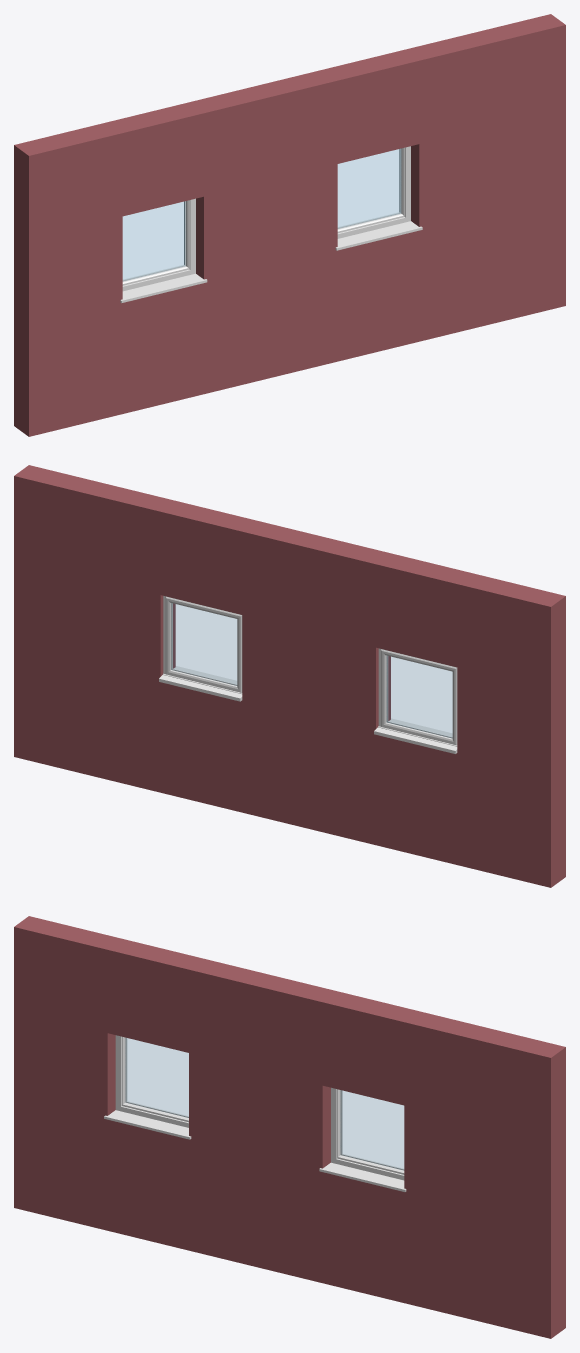
File: OneWallTwoWindows.dae
The picture shows the model from 3 angles, top to bottom: view 1: azimuth 30°, elevation 25°; view 2: azimuth 150°, elevation 25°; view 3: azimuth 330°, elevation 25°; orthographic projection.
Parts seen in each view (by area): view 1: product-f866f311-1fa6-42a7-8112-a4668819cc72-body, product-f866f311-1fa6-42a7-8112-a4668819cd74-body, product-f866f311-1fa6-42a7-8112-a4668819cd93-body; view 2: product-f866f311-1fa6-42a7-8112-a4668819cc72-body, product-f866f311-1fa6-42a7-8112-a4668819cd93-body, product-f866f311-1fa6-42a7-8112-a4668819cd74-body; view 3: product-f866f311-1fa6-42a7-8112-a4668819cc72-body, product-f866f311-1fa6-42a7-8112-a4668819cd93-body, product-f866f311-1fa6-42a7-8112-a4668819cd74-body.
Part boxes in pixels (<box>): product-f866f311-1fa6-42a7-8112-a4668819cc72-body: <box>14,14,565,436</box>; product-f866f311-1fa6-42a7-8112-a4668819cd74-body: <box>335,146,422,250</box>; product-f866f311-1fa6-42a7-8112-a4668819cd93-body: <box>120,198,207,303</box>; product-f866f311-1fa6-42a7-8112-a4668819cc72-body: <box>14,465,565,887</box>; product-f866f311-1fa6-42a7-8112-a4668819cd93-body: <box>374,648,457,753</box>; product-f866f311-1fa6-42a7-8112-a4668819cd74-body: <box>159,596,242,701</box>; product-f866f311-1fa6-42a7-8112-a4668819cc72-body: <box>14,916,565,1338</box>; product-f866f311-1fa6-42a7-8112-a4668819cd93-body: <box>104,1035,191,1139</box>; product-f866f311-1fa6-42a7-8112-a4668819cd74-body: <box>319,1087,406,1191</box>.
Size of the model in its own units: 6 by 0.3525 by 3.
